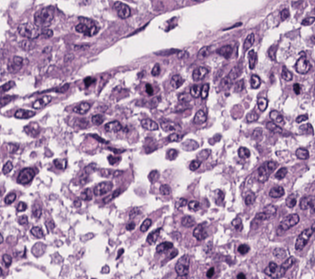nucleus: (295, 224, 313, 250), (274, 257, 295, 276), (279, 213, 299, 230), (251, 211, 269, 228), (175, 255, 189, 275), (93, 181, 112, 195), (31, 95, 51, 108), (295, 56, 310, 73), (269, 110, 284, 126), (257, 164, 270, 182), (103, 189, 121, 202), (192, 66, 208, 80), (193, 224, 207, 240), (146, 228, 160, 244), (73, 101, 90, 114), (42, 84, 69, 92), (227, 66, 241, 81), (141, 118, 158, 130), (104, 120, 121, 132), (217, 45, 232, 58), (264, 261, 277, 276), (266, 121, 282, 133), (161, 121, 180, 131), (243, 33, 254, 50), (170, 74, 183, 88), (300, 196, 313, 210), (193, 110, 206, 123), (263, 204, 276, 217), (100, 169, 121, 177), (269, 186, 284, 197), (247, 50, 256, 68), (267, 44, 277, 60), (156, 242, 172, 252), (197, 46, 210, 58), (295, 147, 308, 159), (181, 215, 194, 227), (281, 66, 292, 80), (244, 191, 255, 205), (200, 83, 209, 99), (274, 167, 286, 179), (140, 218, 151, 231), (30, 226, 43, 237), (250, 74, 260, 88), (299, 123, 313, 133), (155, 49, 178, 55), (90, 134, 107, 142), (221, 76, 232, 88), (265, 160, 277, 171), (81, 188, 92, 200), (257, 97, 267, 110), (53, 159, 66, 169), (286, 194, 296, 207), (232, 217, 242, 230), (32, 204, 41, 218), (238, 147, 249, 158), (159, 184, 170, 195), (40, 28, 52, 38), (234, 79, 244, 91), (190, 85, 200, 97), (178, 93, 190, 103), (246, 111, 258, 121), (91, 114, 103, 124), (148, 170, 158, 182), (175, 198, 187, 208), (187, 200, 199, 210), (168, 132, 181, 141), (166, 149, 177, 159), (189, 160, 200, 170), (238, 244, 249, 254), (273, 248, 285, 257), (151, 63, 159, 76), (45, 219, 54, 230), (108, 156, 120, 164), (84, 77, 94, 86), (296, 114, 307, 122), (293, 83, 300, 94), (206, 267, 214, 276), (75, 44, 89, 49), (145, 84, 152, 94), (117, 248, 123, 258), (170, 250, 177, 257), (126, 223, 134, 229), (74, 199, 80, 206), (237, 273, 245, 278), (102, 266, 108, 272)
